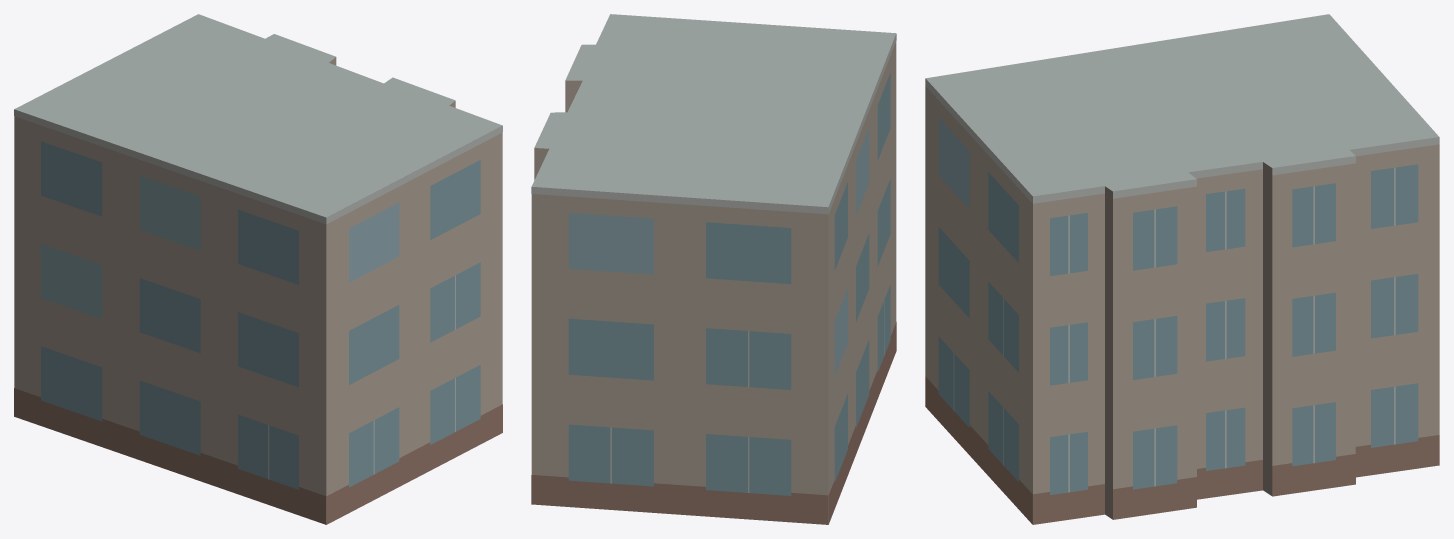
Rendered from survey-upis-33002743.glb.
3 renders of one model, left to right at view 1: azimuth 30°, elevation 25°; view 2: azimuth 150°, elevation 25°; view 3: azimuth 270°, elevation 25°, orthographic. The views are drawn at different scales.
Parts seen in each view (by area): view 1: survey-upis-33002743.tmp; view 2: survey-upis-33002743.tmp; view 3: survey-upis-33002743.tmp.
Boxes of the visible parts, x1,y1,x2,y2 form: survey-upis-33002743.tmp: (14,14,502,524); survey-upis-33002743.tmp: (531,14,896,524); survey-upis-33002743.tmp: (925,14,1439,524).
Size of the model in its own units: 13 by 10.9 by 15.47.
